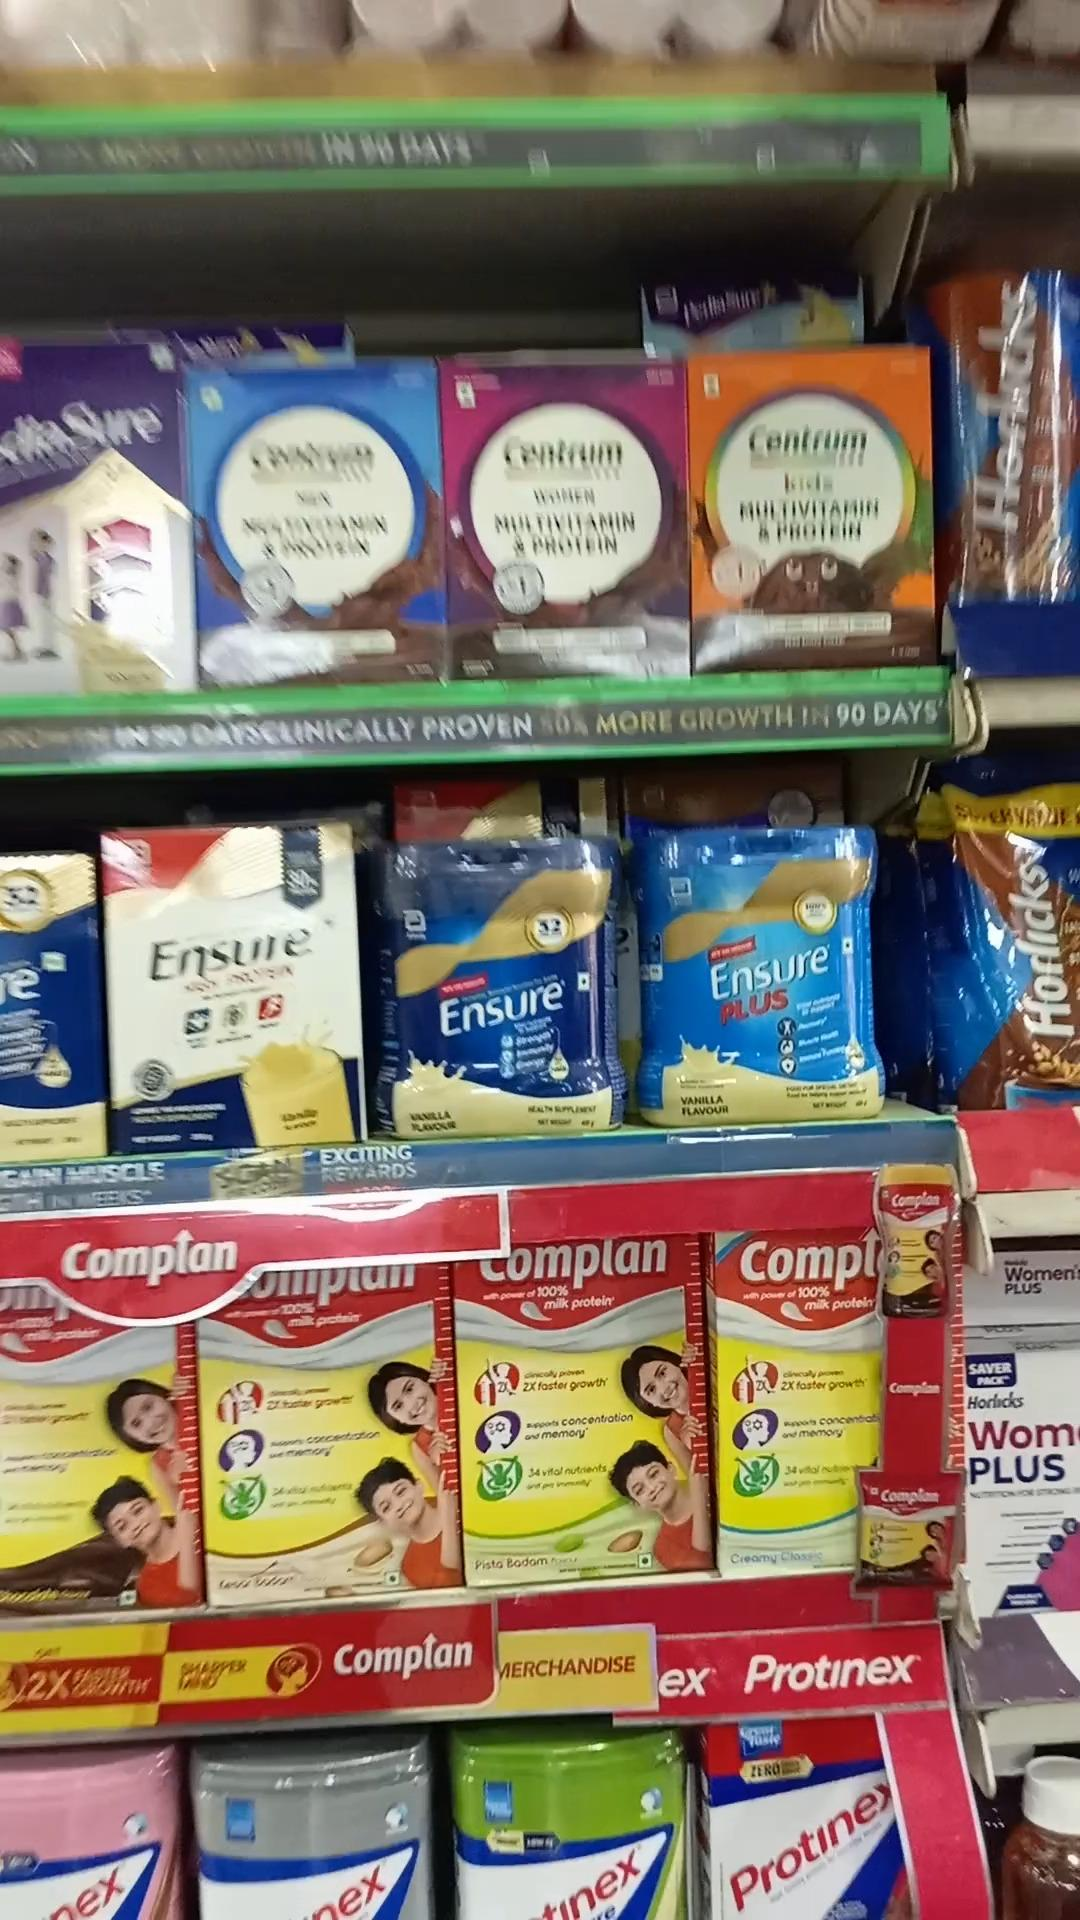COMPLAN_CREAMY_CLASSIC_500_G_PACK: (724, 1234, 858, 1572)
COMPLAN_KESAR_BADAM_500_GMS_PACK: (204, 1309, 459, 1596)
COMPLAN_PISTA_BADAM_500_GMS_PACK: (468, 1253, 715, 1581)
ENSURE_VANILLA_400_G_PACK: (104, 825, 367, 1147)
HORLICK_CHOCOLATE_750_G_POUCH: (934, 769, 1080, 1106)
